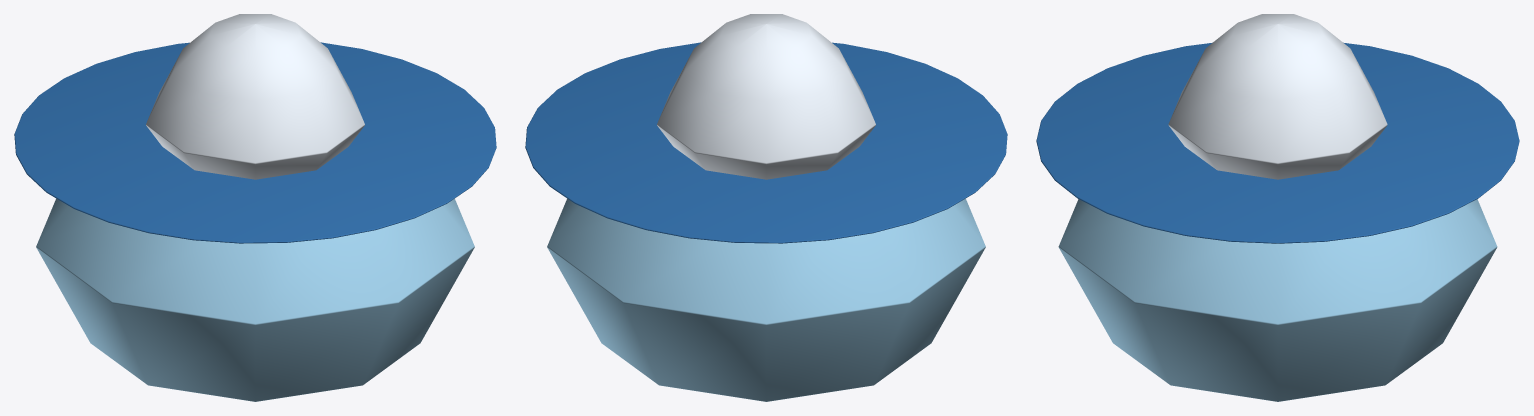
File: iceberg.glb
The picture shows the model from 3 angles, left to right: view 1: azimuth 30°, elevation 25°; view 2: azimuth 150°, elevation 25°; view 3: azimuth 270°, elevation 25°; orthographic projection.
Parts seen in each view (by area): view 1: iceberg; view 2: iceberg; view 3: iceberg.
Part boxes in pixels (x1,y1,x2,y2): iceberg: (14, 14, 496, 401); iceberg: (525, 14, 1007, 401); iceberg: (1036, 14, 1519, 401).
Bounding box in the file's own units: 5.2 × 4.05 × 5.2.
